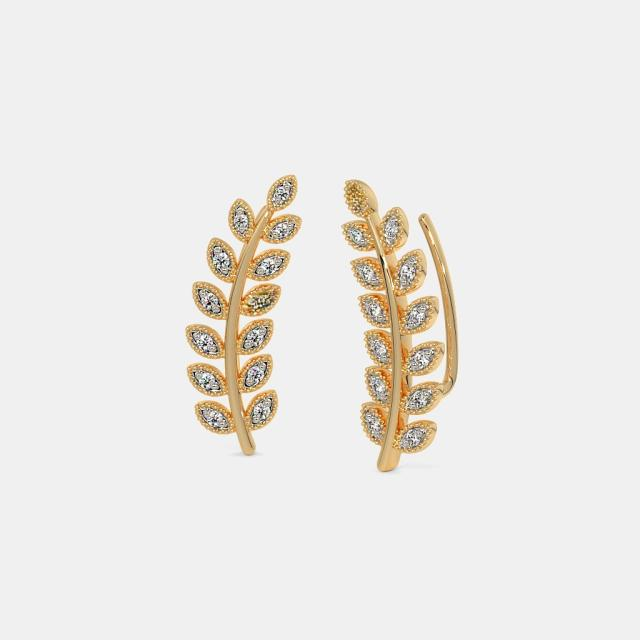missing gem: (244, 285, 277, 312), (347, 180, 367, 215)
